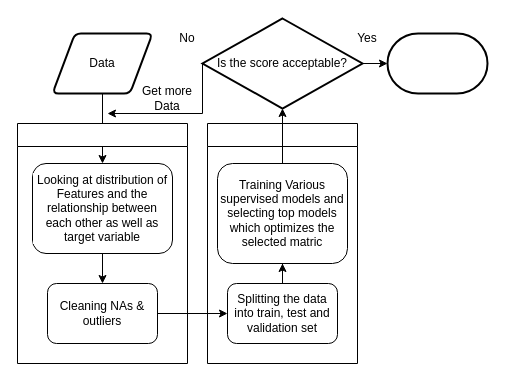
Some shapes in this 506 by 381 pixel diagram are drawn without their labels. Here are the shapes that lost their labels. From the top down, the box of each, then its label:
(386, 32, 488, 94): Make pipeline
(16, 122, 188, 364): EDA
(206, 122, 358, 364): Modeling
